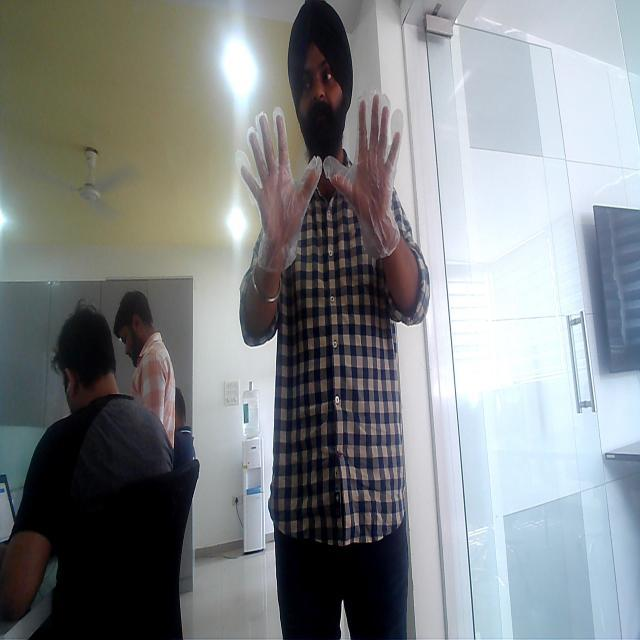with_gloves: (230, 101, 331, 297), (324, 88, 404, 260)
